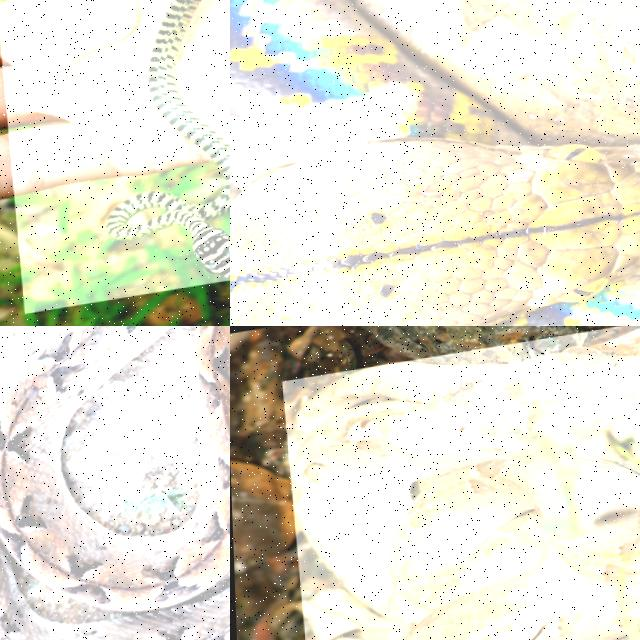Calloselasma rhodostoma: (291, 362, 622, 639), (0, 326, 229, 639)
Chrysopelea ornata: (107, 0, 229, 279)
Malayopython reticulatus: (230, 0, 639, 325)
